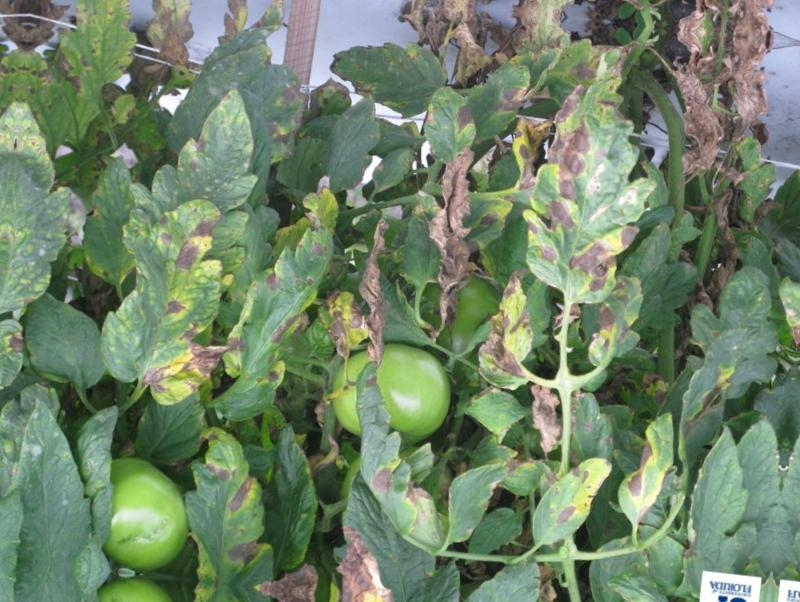Tomato Early blight leaf: (98, 176, 239, 417), (513, 61, 648, 305), (218, 169, 326, 444), (334, 366, 460, 550), (0, 104, 79, 327), (176, 426, 290, 579), (464, 283, 557, 392), (528, 437, 600, 549), (584, 249, 647, 374), (613, 415, 681, 523), (415, 79, 483, 162)
